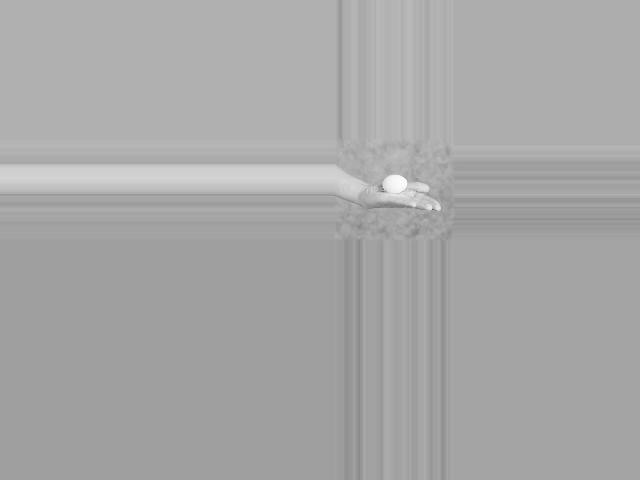egg: (382, 174, 406, 193)
